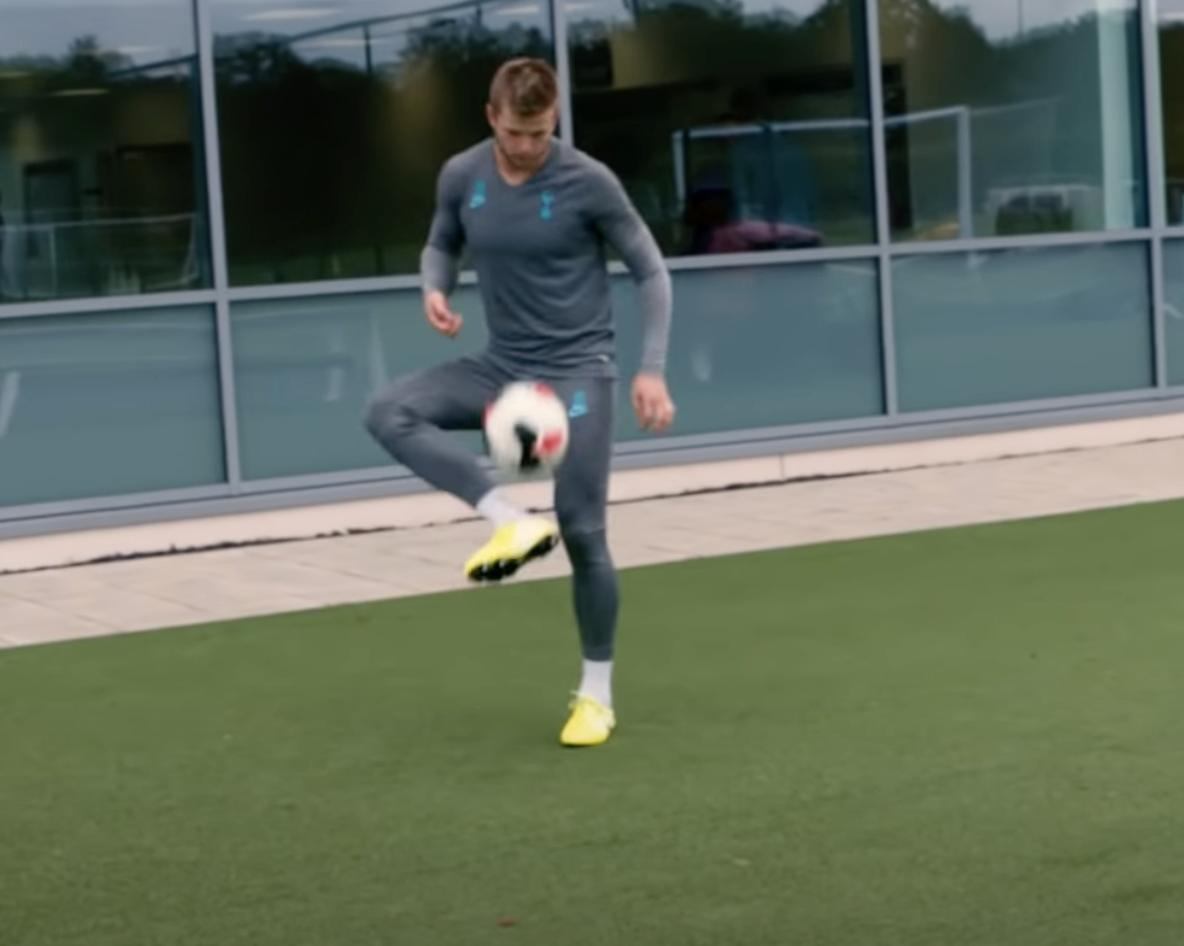ball: (484, 383, 567, 471)
foot: (467, 516, 558, 580), (559, 694, 616, 747)
person: (366, 58, 675, 747)
